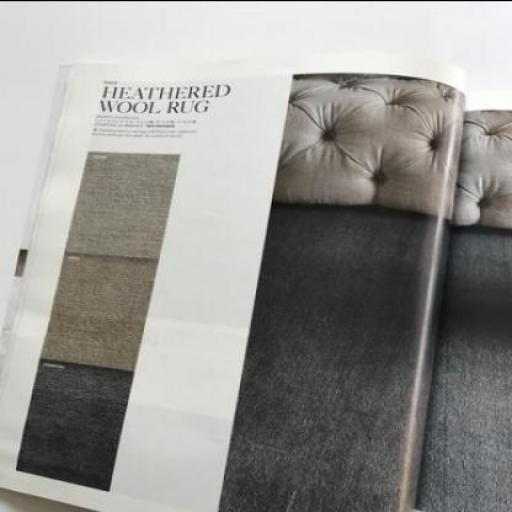paper: (1, 52, 511, 510)
